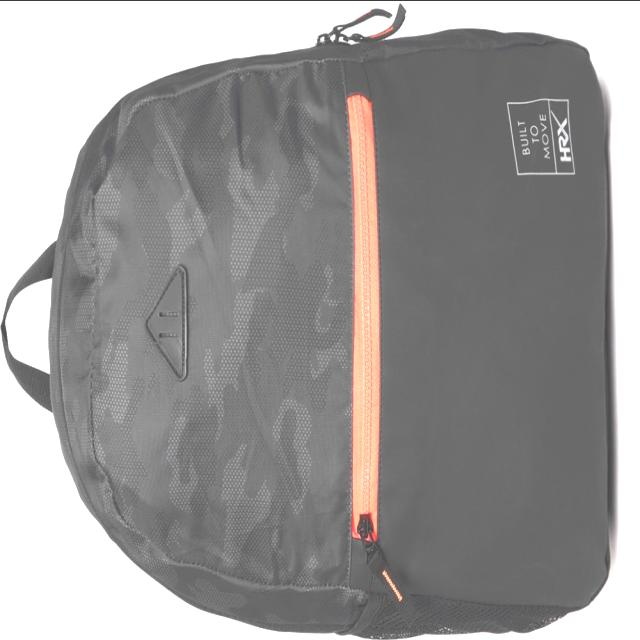backpack: (2, 5, 612, 639)
